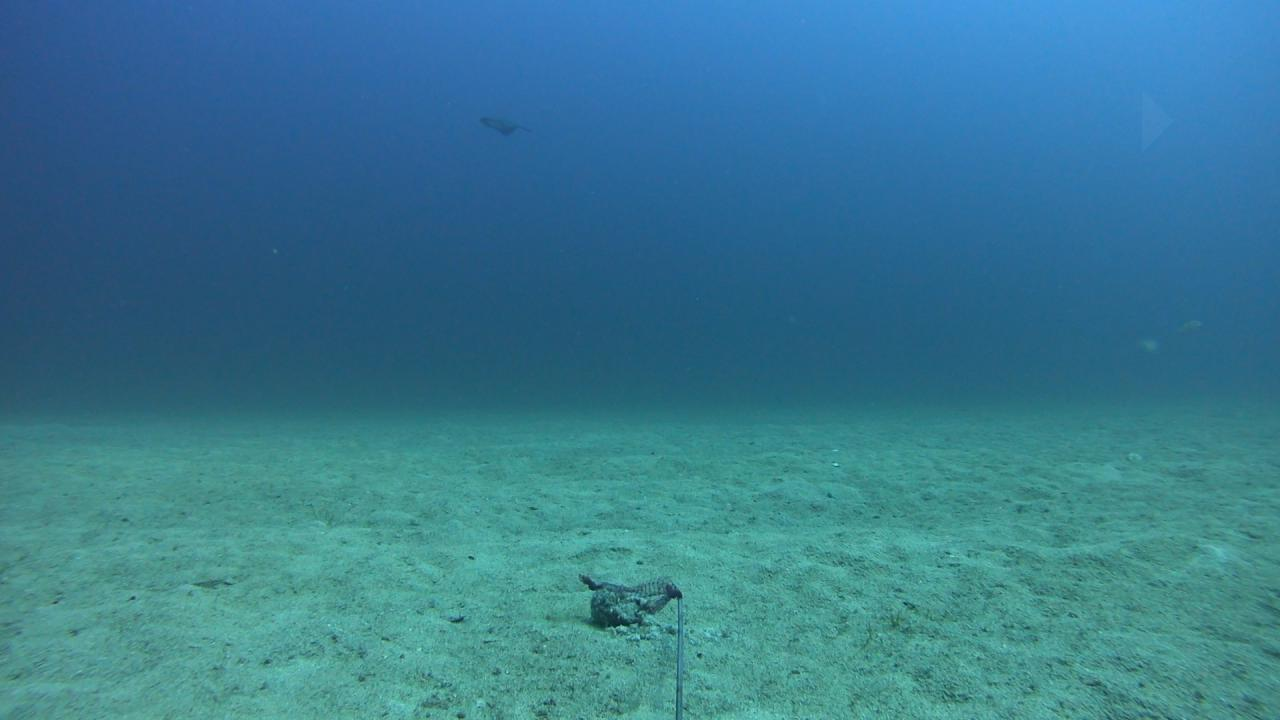dasyatis: (476, 111, 544, 138)
